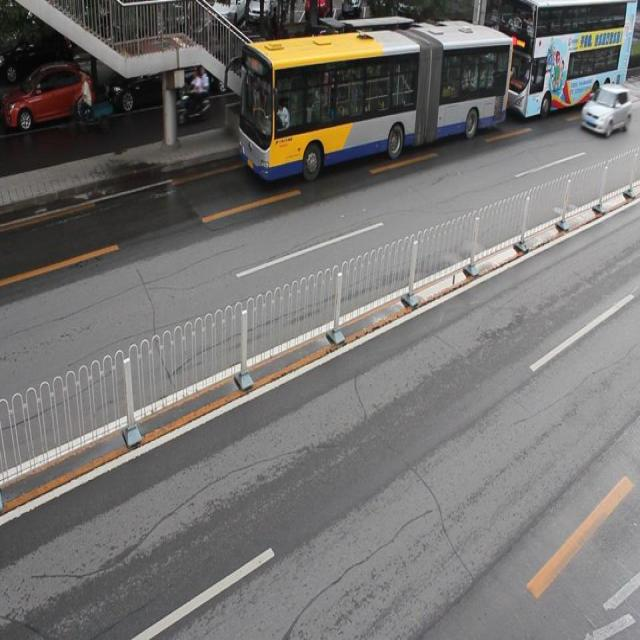car: (1, 62, 93, 128), (104, 44, 196, 105), (290, 28, 362, 88), (209, 32, 275, 94), (581, 82, 630, 134)
van: (239, 22, 510, 170), (496, 1, 640, 118)
